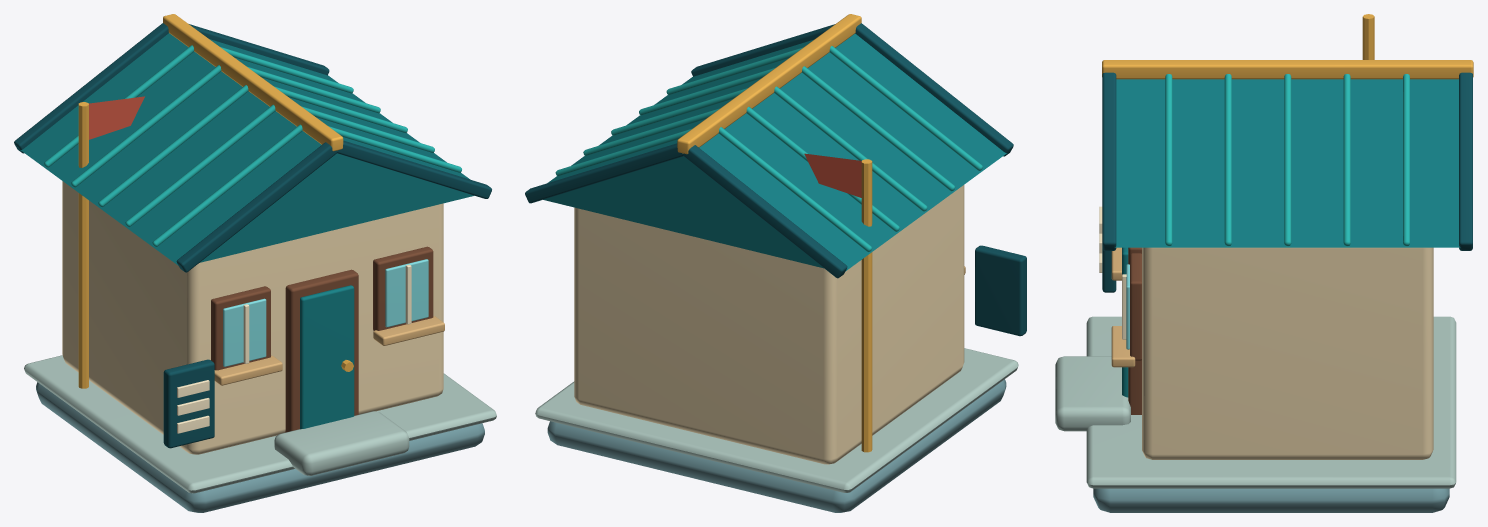
File: Office_T1.fbx
The picture shows the model from 3 angles, left to right: view 1: azimuth 30°, elevation 25°; view 2: azimuth 150°, elevation 25°; view 3: azimuth 270°, elevation 25°; orthographic projection. The views are drawn at different scales.
Parts seen in each view (by area): view 1: Office_T1_Static, Harbor pennant; view 2: Office_T1_Static, Harbor pennant; view 3: Office_T1_Static.
Boxes of the visible parts, x1,y1,x2,y2 form: Office_T1_Static: (14, 14, 496, 512); Harbor pennant: (89, 96, 144, 139); Office_T1_Static: (525, 14, 1026, 512); Harbor pennant: (804, 153, 861, 197); Office_T1_Static: (1055, 14, 1473, 512).
Size of the model in its own units: 3.8 by 3.86 by 3.87.
Materials: 1 (1 with a texture image).
